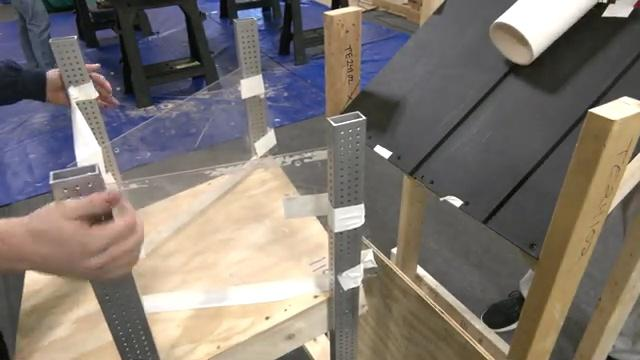CORAL: (487, 0, 600, 66)
